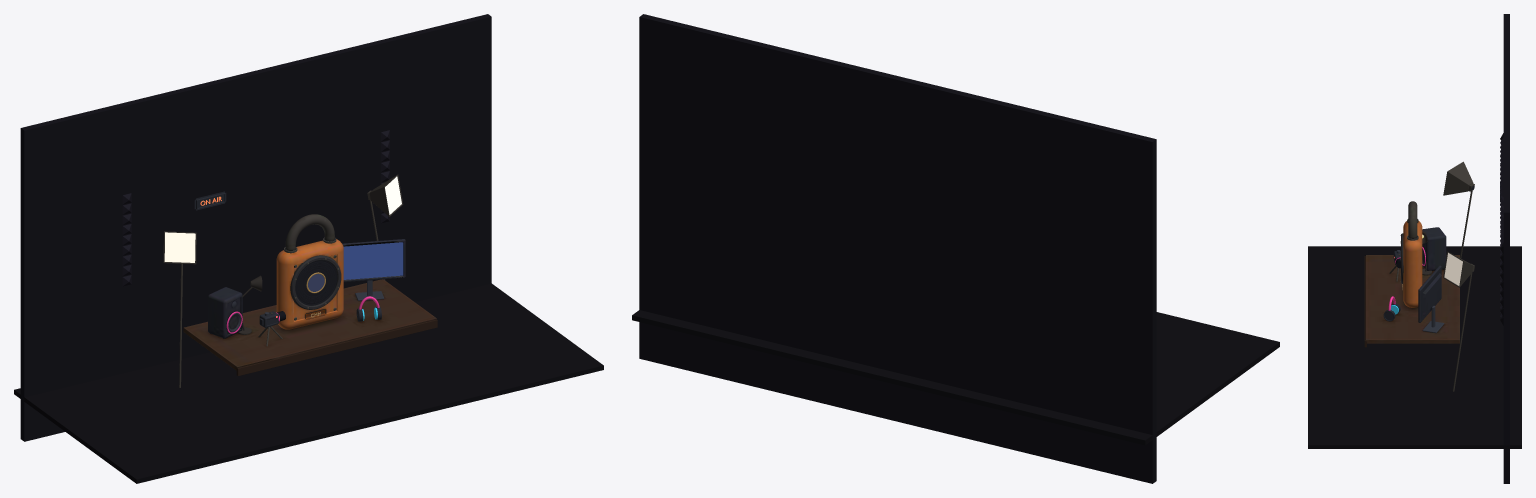
Rendered from studio.glb.
3 renders of one model, left to right at view 1: azimuth 30°, elevation 25°; view 2: azimuth 150°, elevation 25°; view 3: azimuth 270°, elevation 25°, orthographic. The views are drawn at different scales.
Parts seen in each view (by area): view 1: Room_Wall, Room_Floor, Prop_Desk, Lock_Body, Monitor_Screen, Prop_Desk_Edge, Room_Foam, Prop_Speaker, Dial_Vinyl, Softbox_L_Panel, Lock_Shackle, Dial_Bezel; view 2: Room_Wall, Room_Floor; view 3: Room_Floor, Prop_Desk, Room_Wall, Lock_Body, Prop_Speaker, Prop_Monitor, Room_Foam, Prop_Softbox_L, Softbox_R_Panel, Lock_Shackle, Prop_Softbox_R, Prop_Softbox_R_Pole.
Part boxes in pixels (bbox=[...]): Room_Wall: bbox=[20, 14, 491, 441]; Room_Floor: bbox=[14, 283, 603, 483]; Prop_Desk: bbox=[183, 279, 436, 370]; Lock_Body: bbox=[276, 237, 343, 329]; Monitor_Screen: bbox=[343, 242, 403, 279]; Prop_Desk_Edge: bbox=[236, 319, 437, 375]; Room_Foam: bbox=[122, 130, 389, 286]; Prop_Speaker: bbox=[208, 287, 242, 338]; Dial_Vinyl: bbox=[295, 260, 337, 305]; Softbox_L_Panel: bbox=[164, 232, 195, 262]; Lock_Shackle: bbox=[285, 214, 334, 250]; Dial_Bezel: bbox=[290, 255, 341, 309]; Room_Wall: bbox=[639, 14, 1156, 483]; Room_Floor: bbox=[632, 310, 1279, 445]; Room_Floor: bbox=[1308, 246, 1521, 448]; Prop_Desk: bbox=[1365, 255, 1459, 343]; Room_Wall: bbox=[1503, 14, 1509, 483]; Lock_Body: bbox=[1403, 219, 1422, 307]; Prop_Speaker: bbox=[1422, 227, 1446, 270]; Prop_Monitor: bbox=[1418, 265, 1441, 322]; Room_Foam: bbox=[1500, 133, 1503, 325]; Prop_Softbox_L: bbox=[1443, 161, 1474, 195]; Softbox_R_Panel: bbox=[1444, 252, 1462, 285]; Lock_Shackle: bbox=[1408, 201, 1417, 238]; Prop_Softbox_R: bbox=[1443, 251, 1474, 287]; Prop_Softbox_R_Pole: bbox=[1452, 272, 1472, 391].
Size of the model in its own units: 22 by 14 by 10.
Materials: 35 (12 with a texture image).
